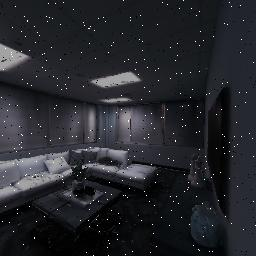sofa: (0, 143, 165, 214)
table: (27, 169, 128, 254)
